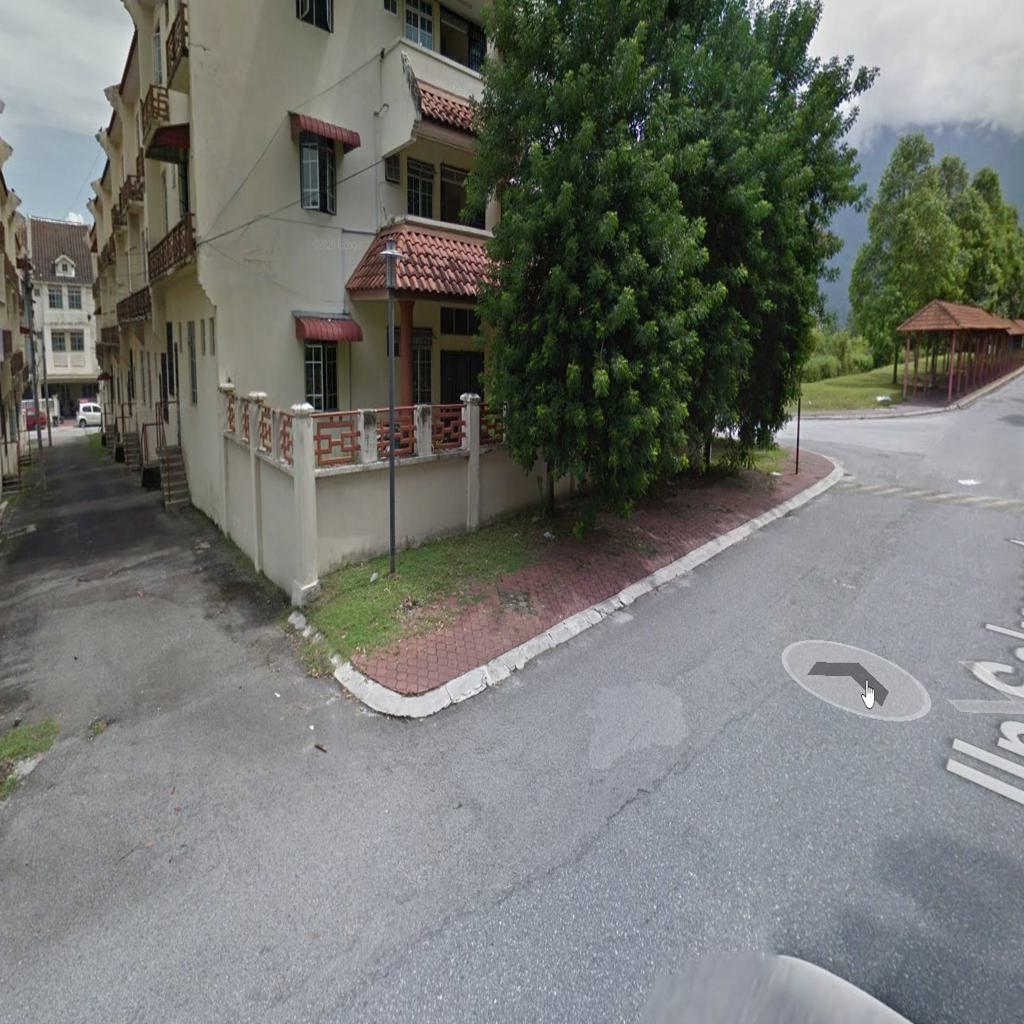Junction: (7, 504, 457, 886)
